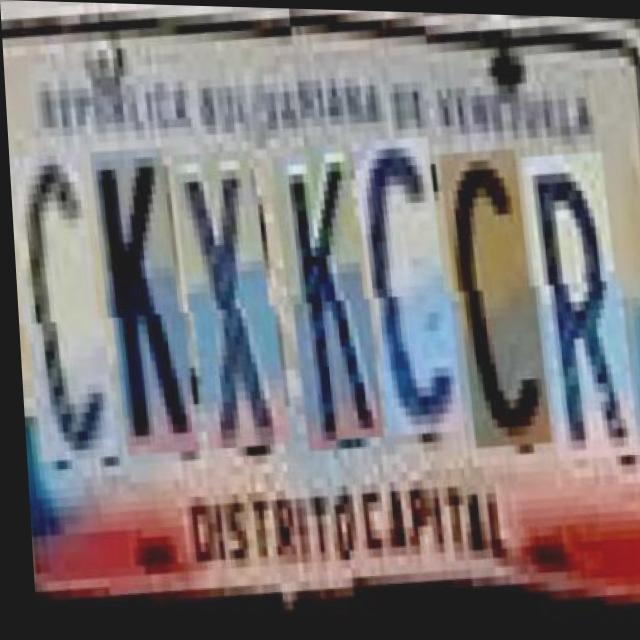c: (7, 153, 108, 465), (440, 166, 543, 467), (353, 152, 455, 454)
k: (272, 156, 375, 458), (90, 148, 189, 460)
r: (521, 170, 630, 481)
x: (172, 154, 279, 455)
